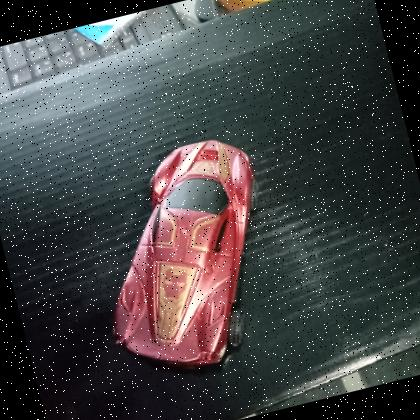Car: (66, 126, 302, 393)
